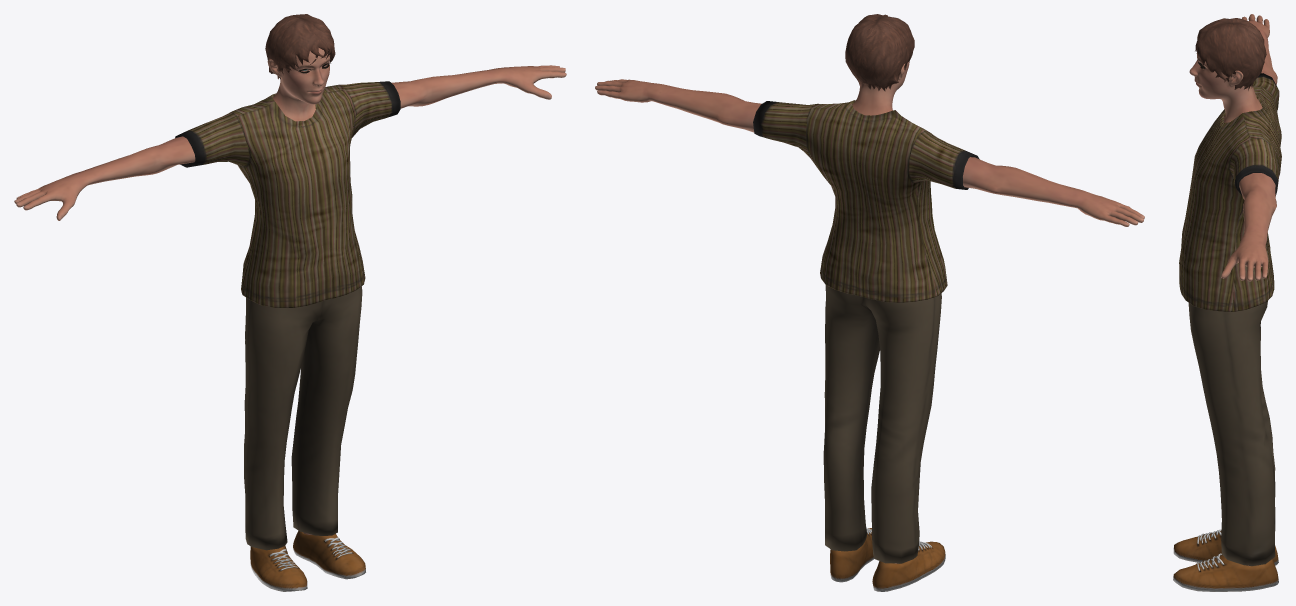
The model's file is Male2C2.obj.
The picture shows the model from 3 angles, left to right: view 1: azimuth 30°, elevation 25°; view 2: azimuth 150°, elevation 25°; view 3: azimuth 270°, elevation 25°; orthographic projection.
Parts seen in each view (by area): view 1: Tops, Bottoms, Body, Shoes, Hair; view 2: Bottoms, Tops, Body, Hair, Shoes; view 3: Bottoms, Tops, Body, Shoes, Hair.
Boxes of the visible parts, x1,y1,x2,y2 form: Tops: (175,81,400,307); Bottoms: (244,286,362,550); Body: (14,48,566,534); Shoes: (250,530,365,591); Hair: (265,14,335,79); Bottoms: (823,285,941,563); Tops: (753,100,979,302); Body: (595,61,1144,563); Hair: (845,14,914,91); Shoes: (830,528,945,591); Bottoms: (1188,301,1275,565); Tops: (1179,73,1281,311); Body: (1189,14,1277,566); Shoes: (1173,529,1278,591); Hair: (1195,18,1266,90).
Size of the model in its own units: 1.87 by 1.8 by 0.3216.
Materials: 1 (1 with a texture image).
